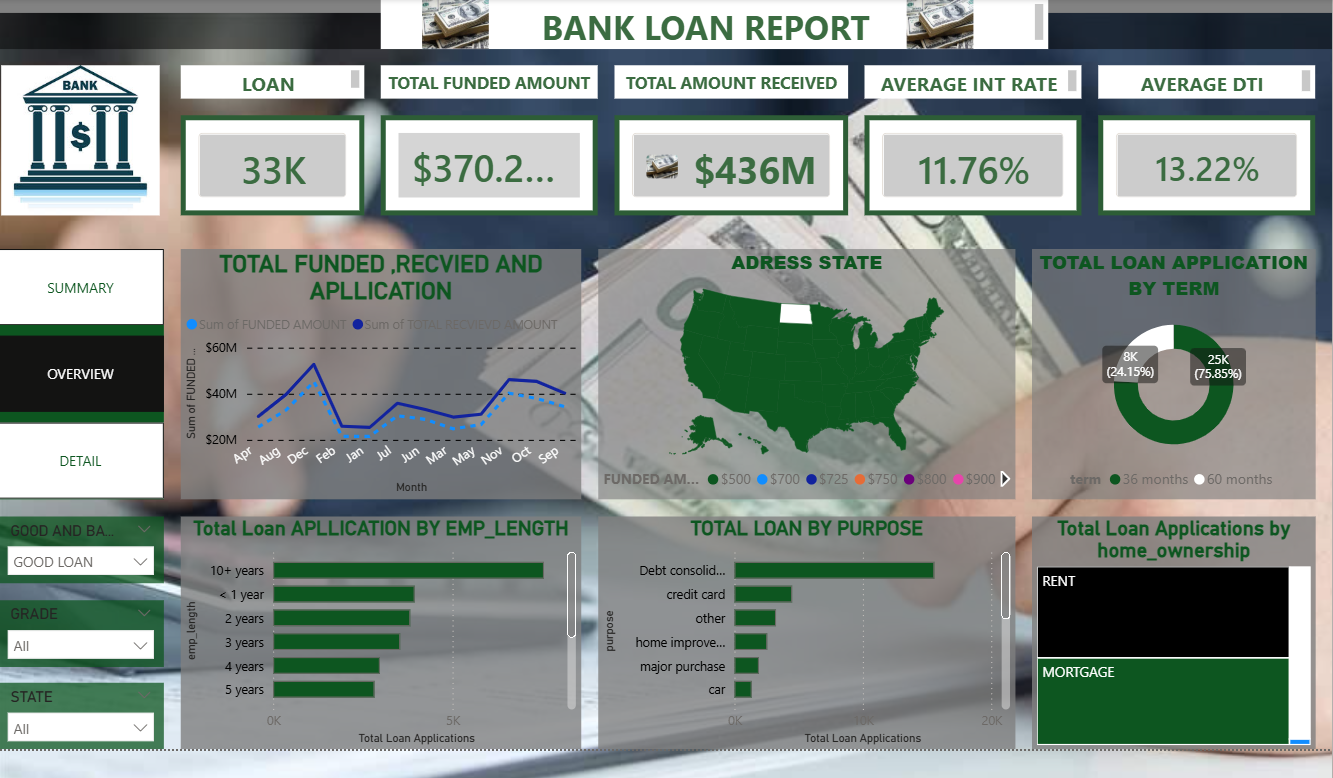

What the dashboard file says about the page in this screenshot:
{"tool":"powerbi","page":{"name":"OVERVIEW","canvas":[1280,720],"ordinal":1},"visuals":[{"type":"shape","box":[0,0,1280,48],"z":0},{"type":"textbox","box":[368,0,640,48],"z":1000},{"type":"textbox","box":[176,64,176,32],"z":2000},{"type":"cardVisual","fields":{"Data":["Sum(loan_data.loan_amount)"]},"box":[368,112,208,96],"z":3000},{"type":"cardVisual","fields":{"Data":["CountNonNull(loan_data.id)"]},"box":[176,112,176,96],"z":4000},{"type":"textbox","box":[368,64,208,32],"z":5000},{"type":"cardVisual","fields":{"Data":["Sum(loan_data.total_payment)"]},"box":[592,112,224,96],"z":6000},{"type":"textbox","box":[592,64,224,32],"z":7000},{"type":"cardVisual","fields":{"Data":["loan_data.Avg Interest Rate Simple"]},"box":[832,112,208,96],"z":8000},{"type":"textbox","box":[832,64,208,32],"z":9000},{"type":"cardVisual","fields":{"Data":["loan_data.Avg DTI Rate Simple"]},"box":[1056,112,208,96],"z":10000},{"type":"textbox","box":[1056,64,208,32],"z":11000},{"type":"slicer","fields":{"Values":["loan_data.address_state"]},"box":[0,656,160,64],"z":12000},{"type":"slicer","fields":{"Values":["loan_data.grade"]},"box":[0,576,160,64],"z":13000},{"type":"slicer","fields":{"Values":["loan_data.GOOD AND BAD LOAN"]},"box":[0,496,160,64],"z":14000},{"type":"image","box":[816,0,176,48],"z":15000},{"type":"image","box":[384,0,112,48],"z":16000},{"type":"image","box":[0,64,160,144],"z":17000},{"type":"lineChart","title":"TOTAL FUNDED ,RECVIED AND APLLICATION","fields":{"Category":["datetable.Month"],"Y":["Sum(loan_data.FUNDED AMOUNT)","Sum(loan_data.TOTAL RECVIEVD AMOUNT)"]},"box":[176,240,384,240],"z":19000},{"type":"shapeMap","title":"ADRESS STATE","fields":{"Category":["loan_data.address_state"],"Series":["loan_data.FUNDED AMOUNT"]},"box":[576,240,400,240],"z":19001},{"type":"donutChart","title":"TOTAL LOAN  APPLICATION BY TERM","fields":{"Category":["loan_data.term"],"Y":["loan_data.Total Loan Applications"]},"box":[992,240,272,240],"z":19002},{"type":"barChart","title":"Total Loan APLLICATION BY EMP_LENGTH","fields":{"Category":["loan_data.emp_length"],"Y":["loan_data.Total Loan Applications"]},"box":[176,496,384,224],"z":19003},{"type":"barChart","title":"TOTAL LOAN BY PURPOSE","fields":{"Category":["loan_data.purpose"],"Y":["loan_data.Total Loan Applications"]},"box":[576,496,400,224],"z":19004},{"type":"treemap","fields":{"Group":["loan_data.home_ownership"],"Values":["loan_data.Total Loan Applications"]},"box":[992,496,272,224],"z":19005},{"type":"pageNavigator","box":[0,240,160,240],"z":19006}]}

Visuals, with their boxes on the page's 1280x720 design canvas (x1, y1, x2, y2). These are canvas units, not pixel positions in the 1333x778 screenshot, which may show the page scaled, cropped or inside an application window:
shape: 0/0/1280/48
textbox: 368/0/1008/48
textbox: 176/64/352/96
cardVisual - Sum(loan_data.loan_amount): 368/112/576/208
cardVisual - CountNonNull(loan_data.id): 176/112/352/208
textbox: 368/64/576/96
cardVisual - Sum(loan_data.total_payment): 592/112/816/208
textbox: 592/64/816/96
cardVisual - loan_data.Avg Interest Rate Simple: 832/112/1040/208
textbox: 832/64/1040/96
cardVisual - loan_data.Avg DTI Rate Simple: 1056/112/1264/208
textbox: 1056/64/1264/96
slicer - loan_data.address_state: 0/656/160/720
slicer - loan_data.grade: 0/576/160/640
slicer - loan_data.GOOD AND BAD LOAN: 0/496/160/560
image: 816/0/992/48
image: 384/0/496/48
image: 0/64/160/208
"TOTAL FUNDED ,RECVIED AND APLLICATION" lineChart: 176/240/560/480
"ADRESS STATE" shapeMap: 576/240/976/480
"TOTAL LOAN  APPLICATION BY TERM" donutChart: 992/240/1264/480
"Total Loan APLLICATION BY EMP_LENGTH" barChart: 176/496/560/720
"TOTAL LOAN BY PURPOSE" barChart: 576/496/976/720
treemap - loan_data.home_ownership x loan_data.Total Loan Applications: 992/496/1264/720
pageNavigator: 0/240/160/480
